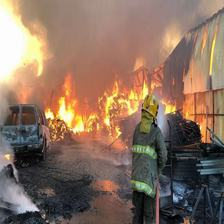fire: (43, 71, 138, 138), (1, 1, 53, 89), (146, 62, 188, 114)
